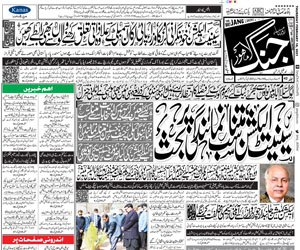news_paper: (2, 1, 300, 250)
